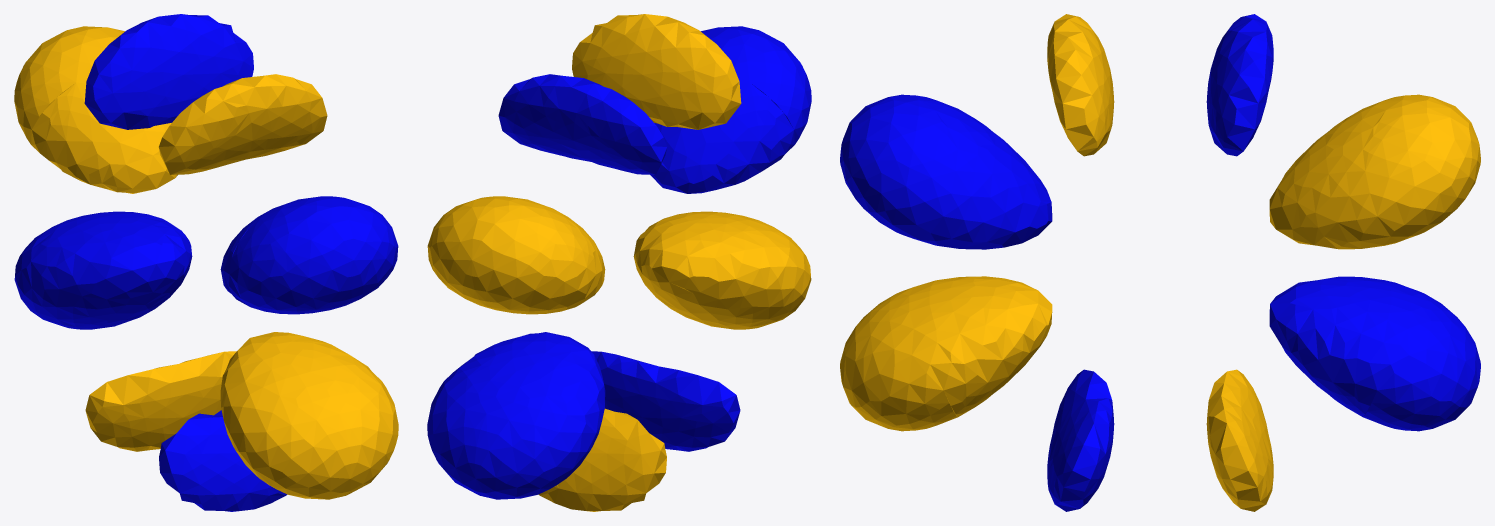
3 views of the same model, side by side, from view 1: azimuth 30°, elevation 25°; view 2: azimuth 150°, elevation 25°; view 3: azimuth 270°, elevation 25° (orthographic). The views are drawn at different scales.
Size of the model in its own units: 10.33 by 25.87 by 32.01.
